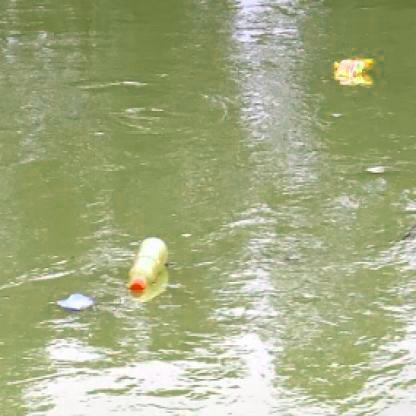Plastic: (126, 232, 170, 297)
Trash: (326, 48, 382, 88), (55, 289, 95, 315)
